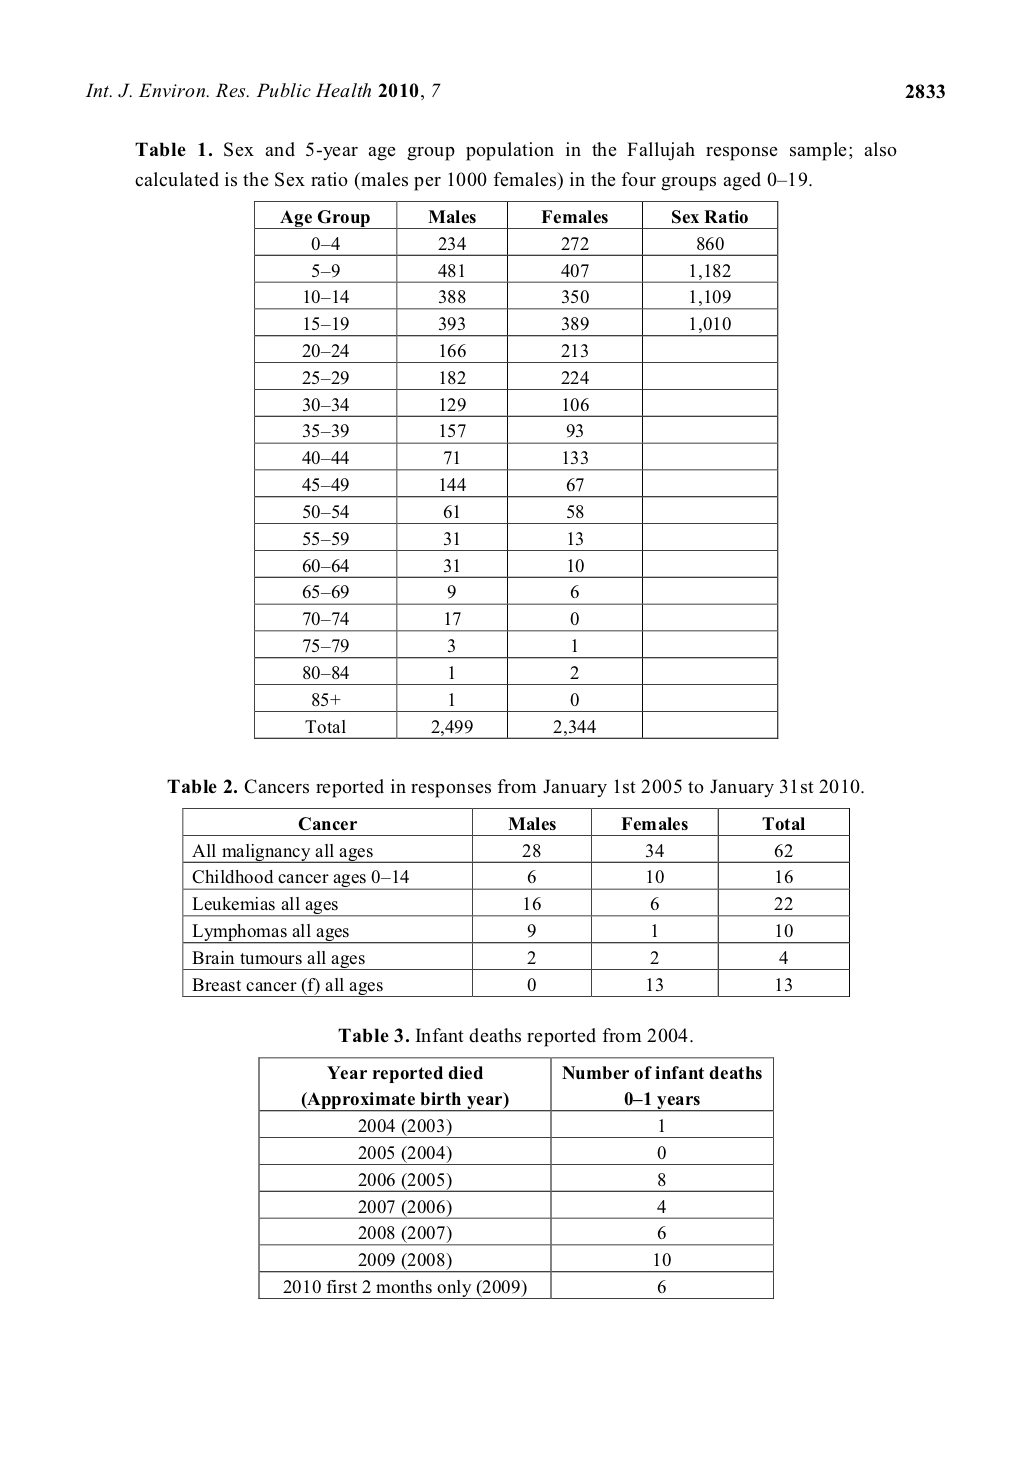Table: (254, 200, 778, 739), (182, 807, 849, 997), (258, 1055, 773, 1299)
